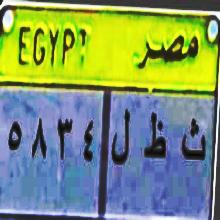3: (55, 113, 75, 164)
4: (81, 115, 95, 171)
5: (5, 120, 24, 161)
8: (29, 111, 49, 169)
Thaa: (143, 107, 166, 170)
laam: (109, 100, 131, 169)
thaa: (182, 116, 207, 170)
